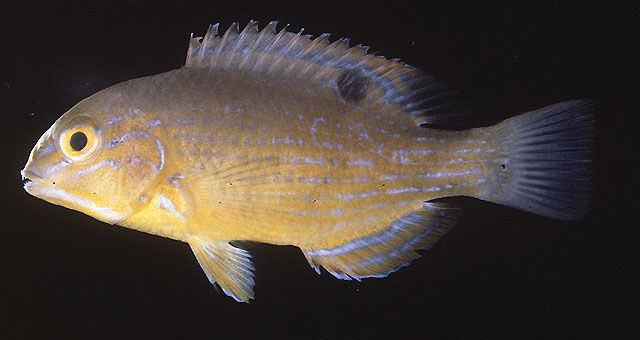fish: (20, 20, 601, 303)
